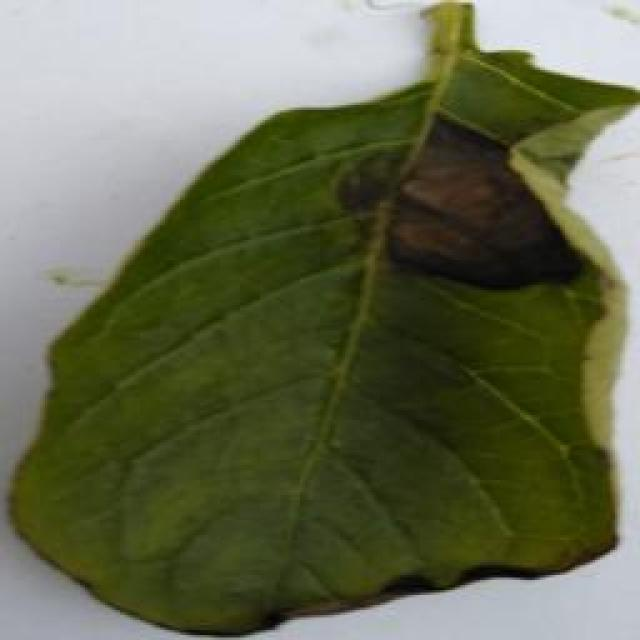Potato_Late_Blight: (11, 13, 621, 632)
